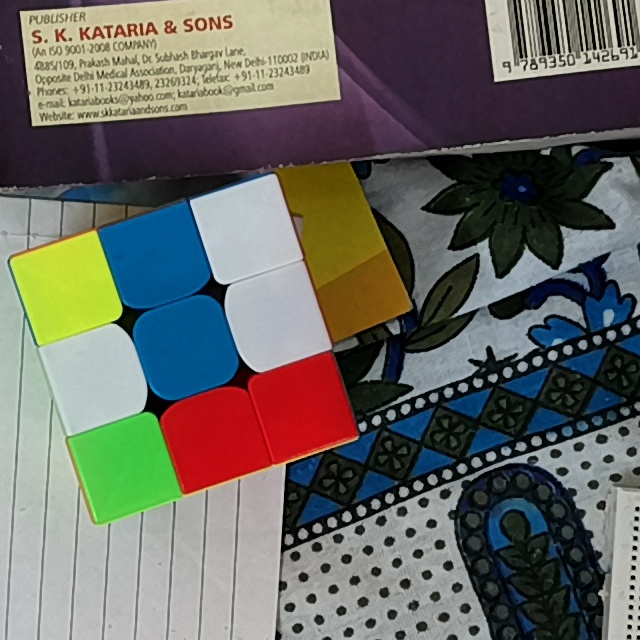tile: (59, 342, 130, 413), (119, 224, 194, 290), (30, 253, 103, 320), (152, 314, 222, 382), (87, 435, 160, 500), (271, 372, 338, 442), (212, 197, 283, 263), (243, 283, 311, 351), (181, 402, 249, 470)
